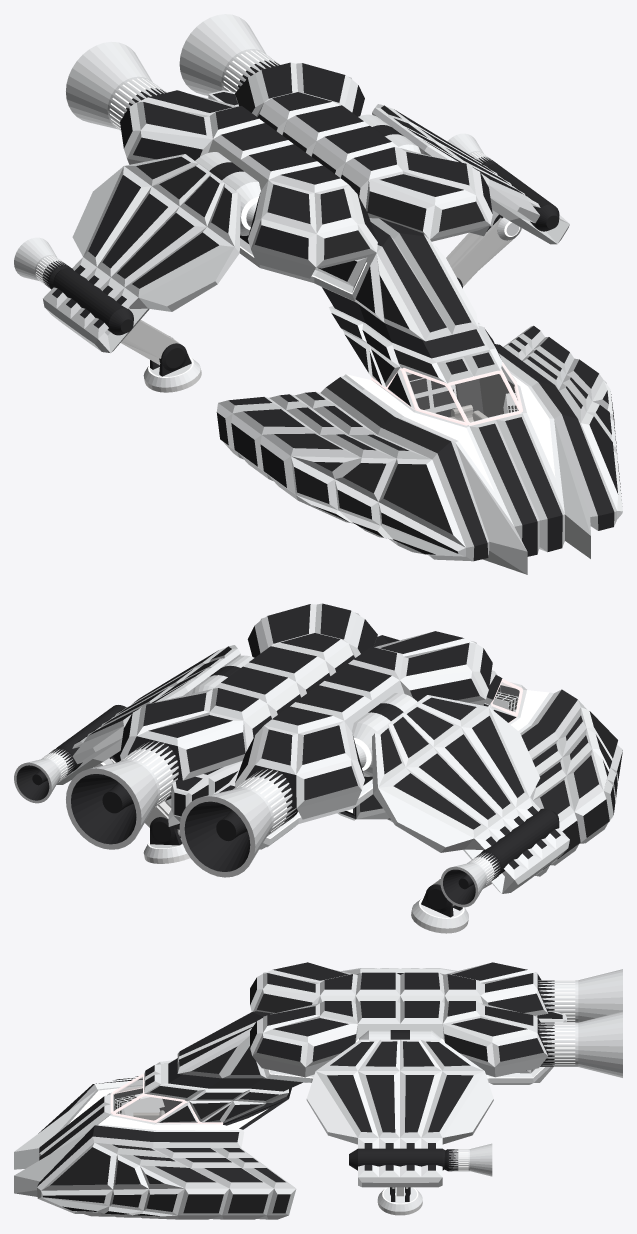
File: carrier.glb
The picture shows the model from 3 angles, top to bottom: view 1: azimuth 30°, elevation 25°; view 2: azimuth 150°, elevation 25°; view 3: azimuth 270°, elevation 25°; orthographic projection. The views are drawn at different scales.
Parts seen in each view (by area): view 1: LAC-410_Body, LAC-410_Wing.R, LAC-410_BigEngine, LAC-410_Wing.L, LAC-410_Glass, LAC-410_WingHeader, LAC-410_Hand.R, LAC-410_LowerArm.L, LAC-410_SmallEngine.R, LAC-410_GlassCanvas, LAC-410_LowerArm.R; view 2: LAC-410_Body, LAC-410_Wing.R, LAC-410_BigEngine, LAC-410_Wing.L, LAC-410_WingHeader, LAC-410_SmallEngine.R, LAC-410_SmallEngine.L, LAC-410_Hand.R, LAC-410_Hand.L, LAC-410_Glass; view 3: LAC-410_Body, LAC-410_Wing.L, LAC-410_BigEngine, LAC-410_Glass, LAC-410_SmallEngine.L, LAC-410_Hand.L, LAC-410_GlassCanvas, LAC-410_WingHeader, LAC-410_Wing.R.
Boxes of the visible parts, <box> form: LAC-410_Body: <box>120,62,622,574</box>; LAC-410_Wing.R: <box>43,154,240,352</box>; LAC-410_BigEngine: <box>66,14,280,130</box>; LAC-410_Wing.L: <box>372,104,569,244</box>; LAC-410_Glass: <box>406,366,518,422</box>; LAC-410_WingHeader: <box>195,114,420,235</box>; LAC-410_Hand.R: <box>143,343,201,392</box>; LAC-410_LowerArm.L: <box>446,217,514,286</box>; LAC-410_SmallEngine.R: <box>14,237,70,289</box>; LAC-410_GlassCanvas: <box>371,361,522,425</box>; LAC-410_LowerArm.R: <box>121,319,179,365</box>; LAC-410_Body: <box>120,603,622,876</box>; LAC-410_Wing.R: <box>372,695,569,893</box>; LAC-410_BigEngine: <box>66,741,297,877</box>; LAC-410_Wing.L: <box>56,645,240,784</box>; LAC-410_WingHeader: <box>192,655,417,776</box>; LAC-410_SmallEngine.R: <box>440,852,501,907</box>; LAC-410_SmallEngine.L: <box>14,748,74,803</box>; LAC-410_Hand.R: <box>411,879,468,933</box>; LAC-410_Hand.L: <box>143,817,189,863</box>; LAC-410_Glass: <box>490,682,519,711</box>; LAC-410_Body: <box>14,962,566,1219</box>; LAC-410_Wing.L: <box>306,1039,493,1187</box>; LAC-410_BigEngine: <box>537,969,622,1077</box>; LAC-410_Glass: <box>113,1077,181,1120</box>; LAC-410_SmallEngine.L: <box>444,1143,492,1176</box>; LAC-410_Hand.L: <box>377,1187,422,1215</box>; LAC-410_GlassCanvas: <box>110,1073,223,1124</box>; LAC-410_WingHeader: <box>355,1030,444,1042</box>; LAC-410_Wing.R: <box>341,968,457,974</box>.
Size of the model in its own units: 938 by 485 by 1367.
3 materials, 1 textured.
